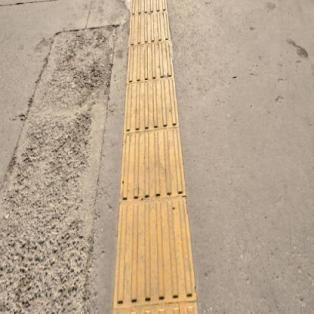Podoctatil: (113, 0, 196, 309)
